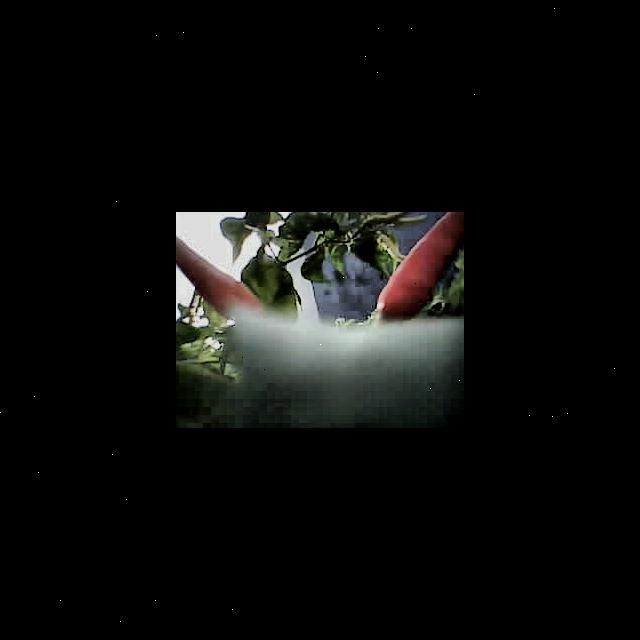Cabai: (377, 212, 464, 314), (176, 233, 249, 325)
